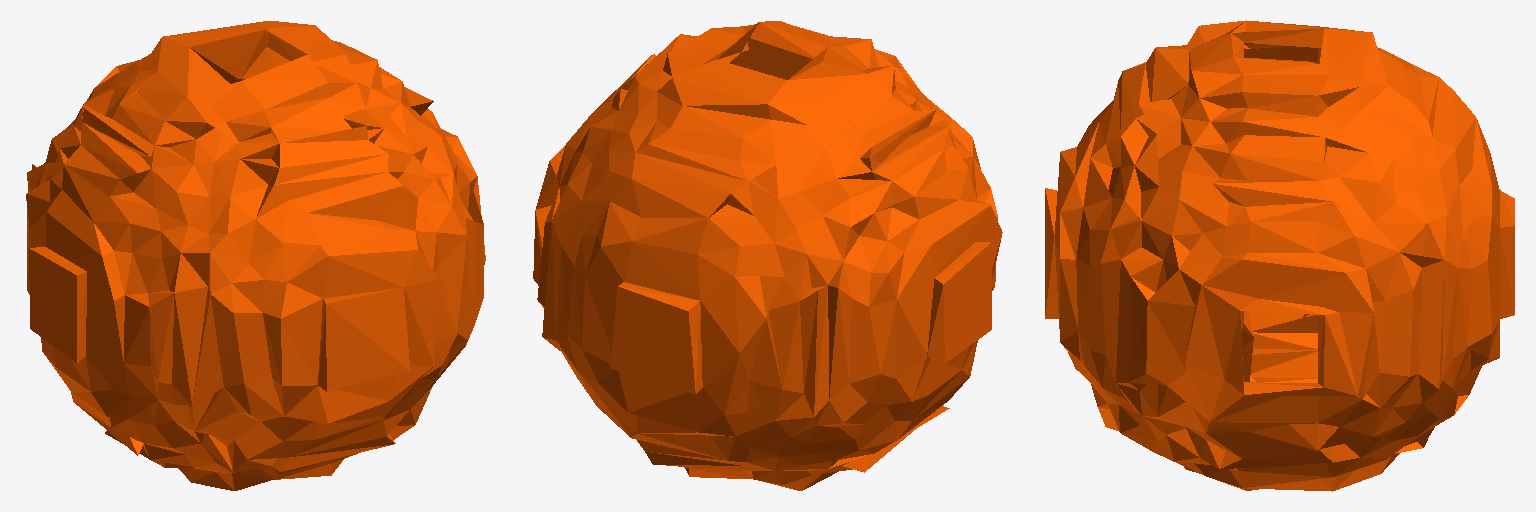
robot.urdf — dcf8407051e841188c60e1bd163277d4:
<?xml version="1.0" ?>
<robot name="dcf8407051e841188c60e1bd163277d4">
   <material name="obj_color">
      <color rgba="1.0 0.423529411765 0.0392156862745 1.0"/>
   </material>
   <link name="top">
      <inertial>
         <origin rpy="6.524062150216498e-05 6.58811003408787e-05 8.723728085345908e-05" xyz="0.0008126804597539946 -0.01833744262000396 -0.0005739962629500465"/>
         <mass value="0.1329435658137716"/>
         <inertia ixx="6.535152230749316e-05" ixy="-1.174422890868397e-06" ixz="-1.894902630766984e-07" iyy="8.716686184291307e-05" iyz="3.876683281642397e-07" izz="6.584061854609652e-05"/>
      </inertial>
      <visual>
         <origin rpy="0 0 0" xyz="0 0 0"/>
         <geometry>
            <mesh filename="top_watertight_tiny.stl" scale="1 1 1"/>
         </geometry>
         <material name="obj_color"/>
      </visual>
      <collision>
         <origin rpy="0 0 0" xyz="0 0 0"/>
         <geometry>
            <mesh filename="top_watertight_tiny.obj" scale="1 1 1"/>
         </geometry>
      </collision>
   </link>
   <link name="bottom">
      <inertial>
         <origin rpy="1.633333333199431e-08 1.633333333199431e-08 1.633333333362855e-08" xyz="0.3464080000000008 0.3464080000000008 0.3464080000000008"/>
         <mass value="0.0009800000000000017"/>
         <inertia ixx="1.633333333253906e-08" ixy="5.447480642029219e-19" ixz="5.447480642029219e-19" iyy="1.633333333253906e-08" iyz="5.447480642029219e-19" izz="1.633333333253906e-08"/>
      </inertial>
      <visual>
         <origin rpy="0 0 0" xyz="0 0 0"/>
         <geometry>
            <mesh filename="bottom_watertight_tiny.stl" scale="1 1 1"/>
         </geometry>
         <material name="obj_color"/>
      </visual>
   </link>
   <link name="world"/>
   <joint name="world_to_base" type="fixed">
      <origin xyz="0 0 0"/>
      <axis xyz="0 0 0"/>
      <parent link="world"/>
      <child link="bottom"/>
   </joint>
   <joint name="rotation" type="revolute">
      <origin xyz="0 0 0"/>
      <axis xyz="0 0 -1"/>
      <parent link="bottom"/>
      <child link="top"/>
      <dynamics damping="1.0" friction="1.0"/>
      <limit effort="0.1" velocity="0.1" lower="0" upper="0.001"/>
   </joint>
</robot>

--- What the picture shows (computed from the rendered views, not written in the file) ---
Views: 3 orthographic renders of the robot side by side, from view 1: azimuth 30°, elevation 25°; view 2: azimuth 150°, elevation 25°; view 3: azimuth 270°, elevation 25°.
Robot: dcf8407051e841188c60e1bd163277d4 — 3 links, 2 joints (1 revolute, 1 fixed); root link world; default pose: every joint at zero.
Links seen in each view (by area): view 1: top; view 2: top; view 3: top.
Link boxes in pixels (box(x1,y1,x2,y2)): top: box(26, 21, 485, 490); top: box(533, 21, 1002, 490); top: box(1045, 20, 1514, 491).
Bounding box of the posed robot: 0.0833 × 0.0835 × 0.0826 m (x, y, z).
1 mesh visuals loaded from 2 distinct referenced files (1 binary STL); not drawn: 1 (reference not matched to a file when rendering).
